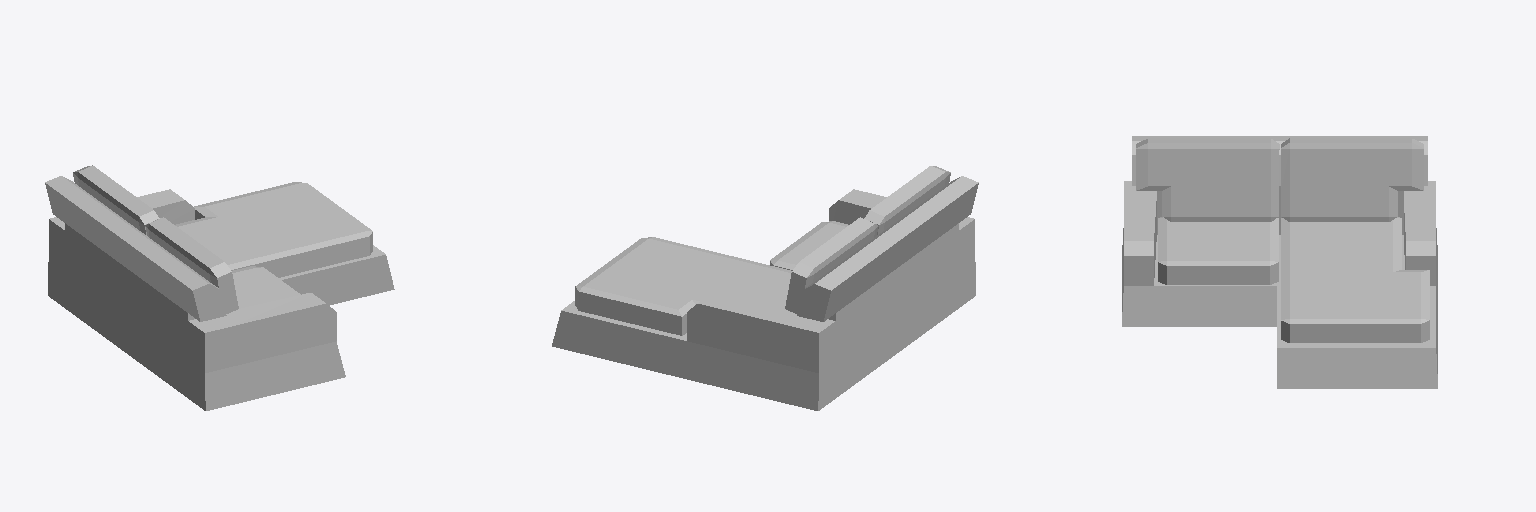
The model's file is SofaLong.obj.
3 views of the same model, side by side, from view 1: azimuth 30°, elevation 25°; view 2: azimuth 150°, elevation 25°; view 3: azimuth 270°, elevation 25° (orthographic).
Visible parts, largest first — view 1: SofaLong; view 2: SofaLong; view 3: SofaLong.
Part boxes in pixels (x1,y1,x2,y2): SofaLong: (45,165,394,410); SofaLong: (552,166,978,410); SofaLong: (1122,136,1437,388).
Size of the model in its own units: 1.37 by 0.6276 by 1.36.